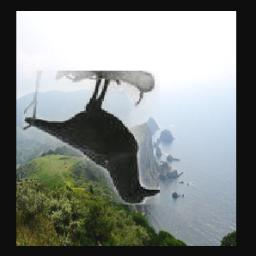Crow: (22, 71, 160, 205)
